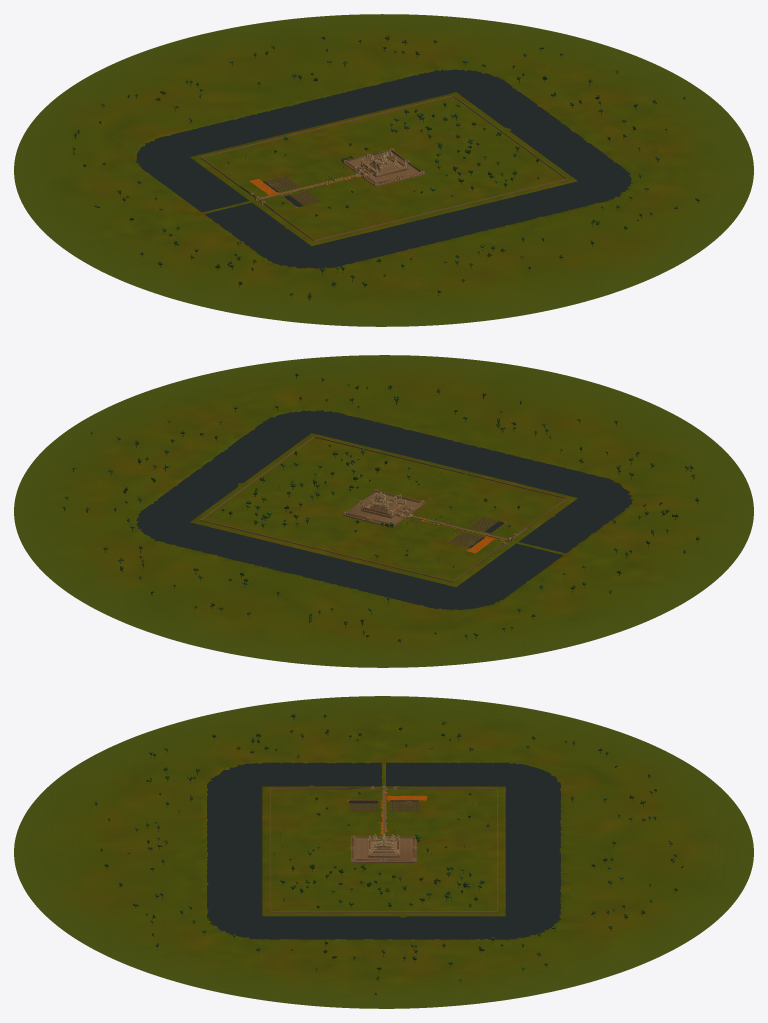
File: angkor-wat.glb
The picture shows the model from 3 angles, top to bottom: view 1: azimuth 30°, elevation 25°; view 2: azimuth 150°, elevation 25°; view 3: azimuth 270°, elevation 25°; orthographic projection.
Visible parts, largest first — view 1: AngkorWat; view 2: AngkorWat; view 3: AngkorWat.
Boxes of the visible parts, <box> form: AngkorWat: <box>14,14,753,326</box>; AngkorWat: <box>14,355,753,667</box>; AngkorWat: <box>14,696,753,1008</box>.
Bounding box in the file's own units: 2600 × 71.2 × 2600.
15 materials, 6 textured.
